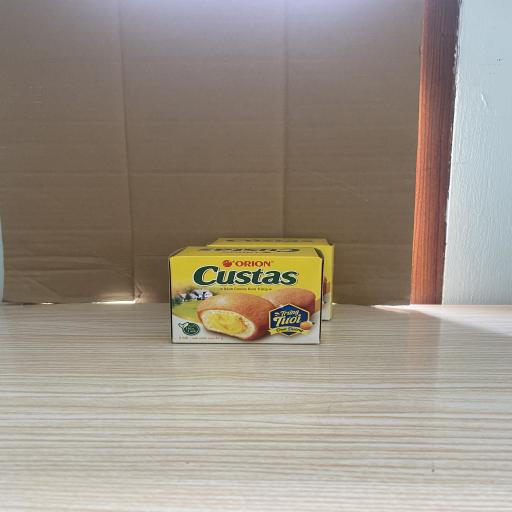custas: (168, 246, 324, 344), (208, 237, 334, 321)
